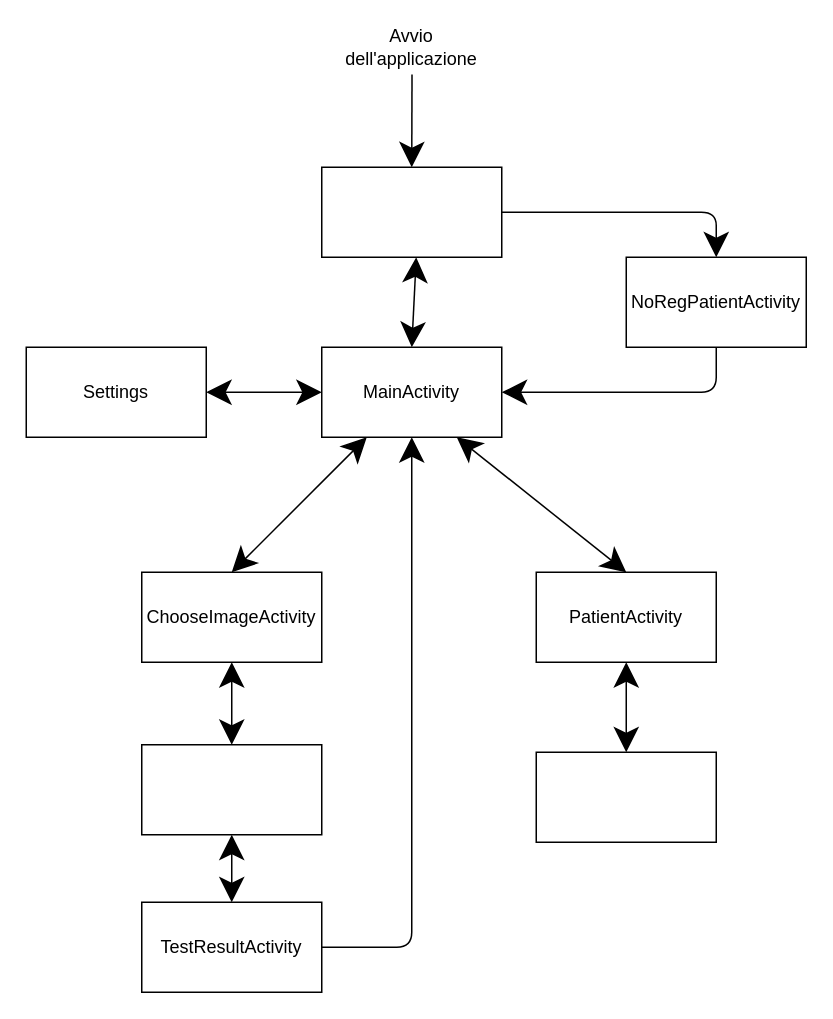
This 833x1019 diagram has some shape labels left out. Each missing label, with the centre of its shape:
CreatePatient: (625,796)
LoginActivity: (411,211)
TestActivity: (231,789)
